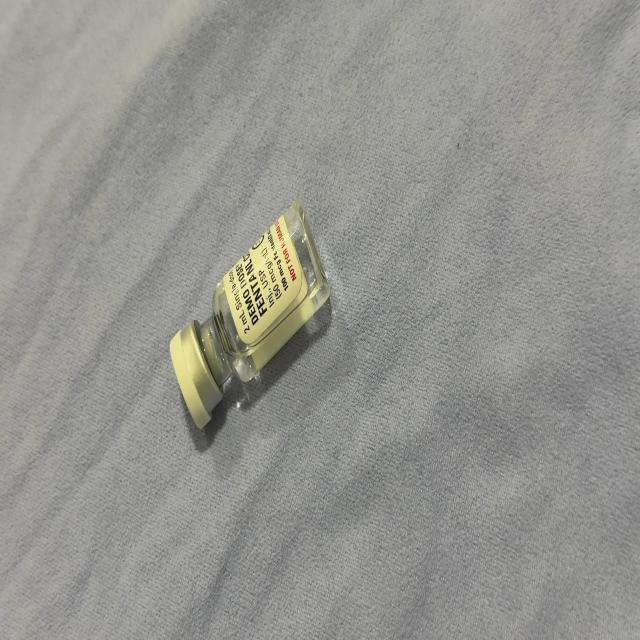fentanl_citrat: (172, 204, 328, 425)
